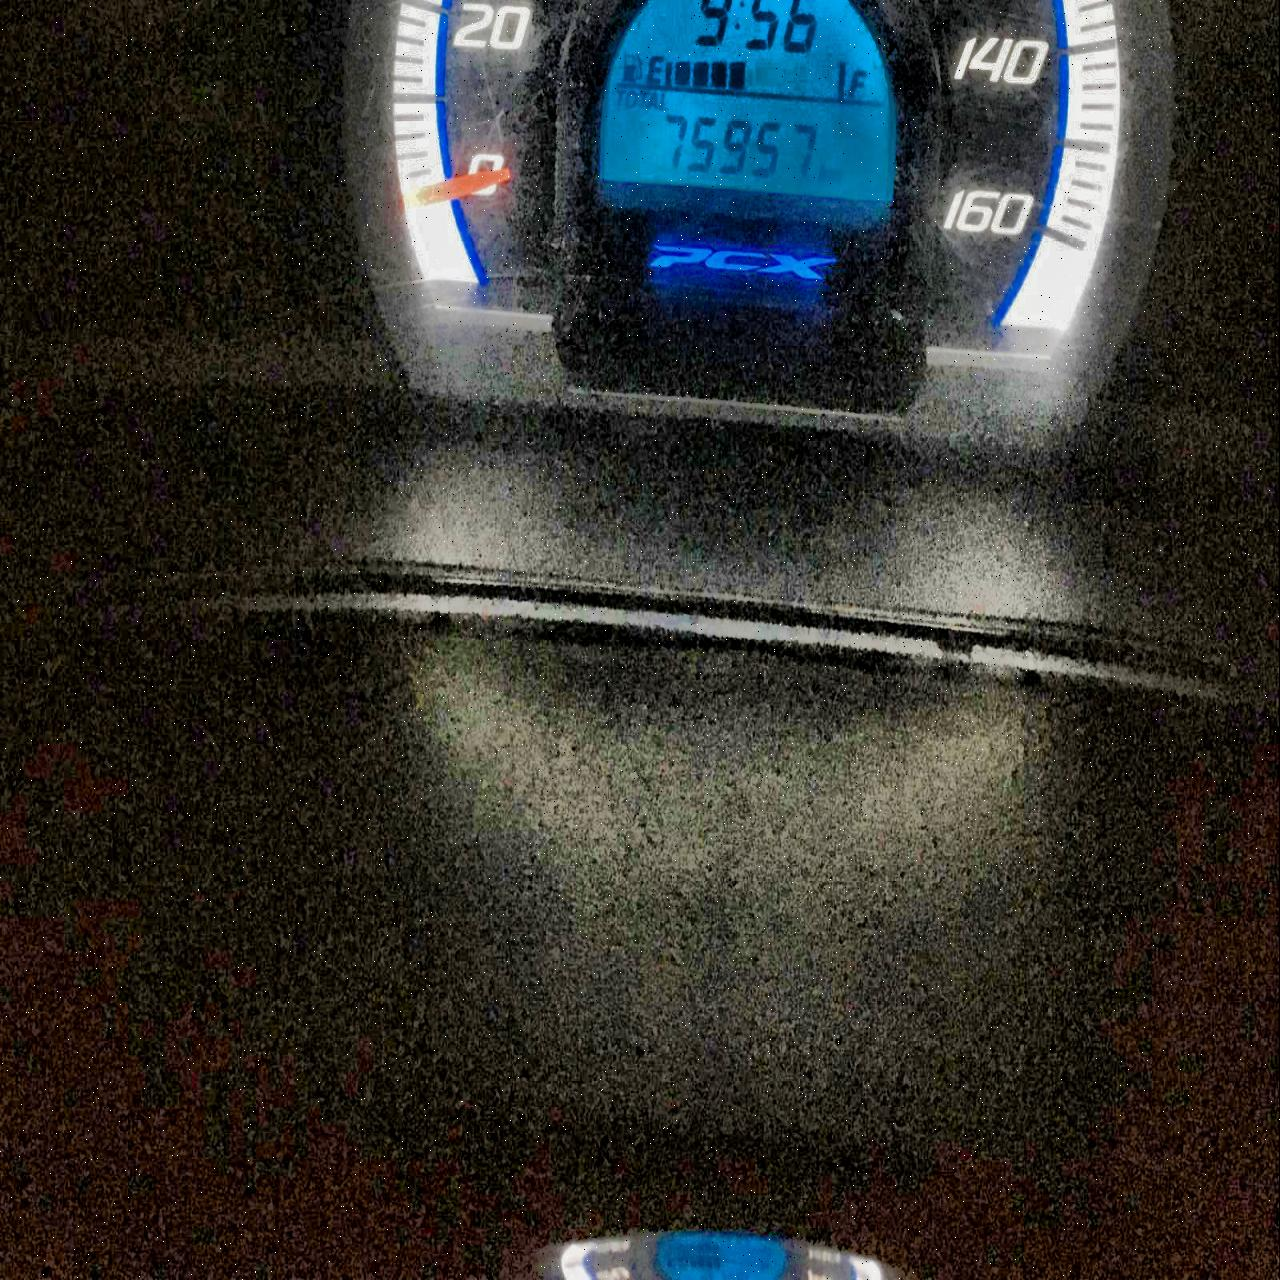5: (687, 113, 715, 173), (748, 0, 779, 52), (756, 117, 782, 179)
6: (784, 0, 821, 56)
7: (792, 121, 816, 176), (663, 113, 686, 168)
9: (719, 116, 750, 176), (696, 1, 727, 48)
X: (847, 61, 869, 98), (644, 50, 666, 83), (734, 0, 747, 30), (828, 164, 840, 184), (659, 90, 670, 111), (818, 162, 829, 184), (614, 86, 625, 107), (639, 87, 648, 109), (649, 89, 659, 111), (626, 89, 636, 108)
odometer: (598, 0, 907, 206)
